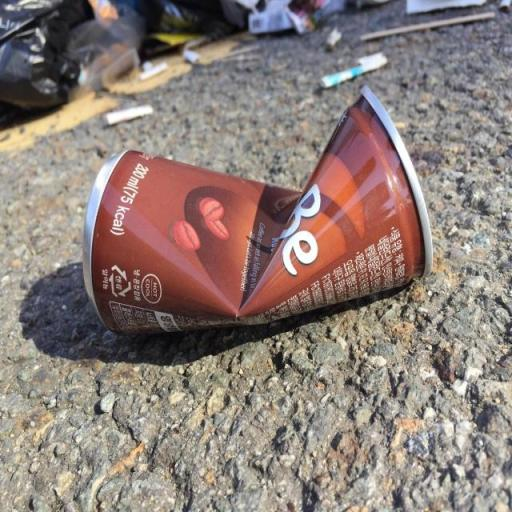metal: (26, 74, 497, 384)
